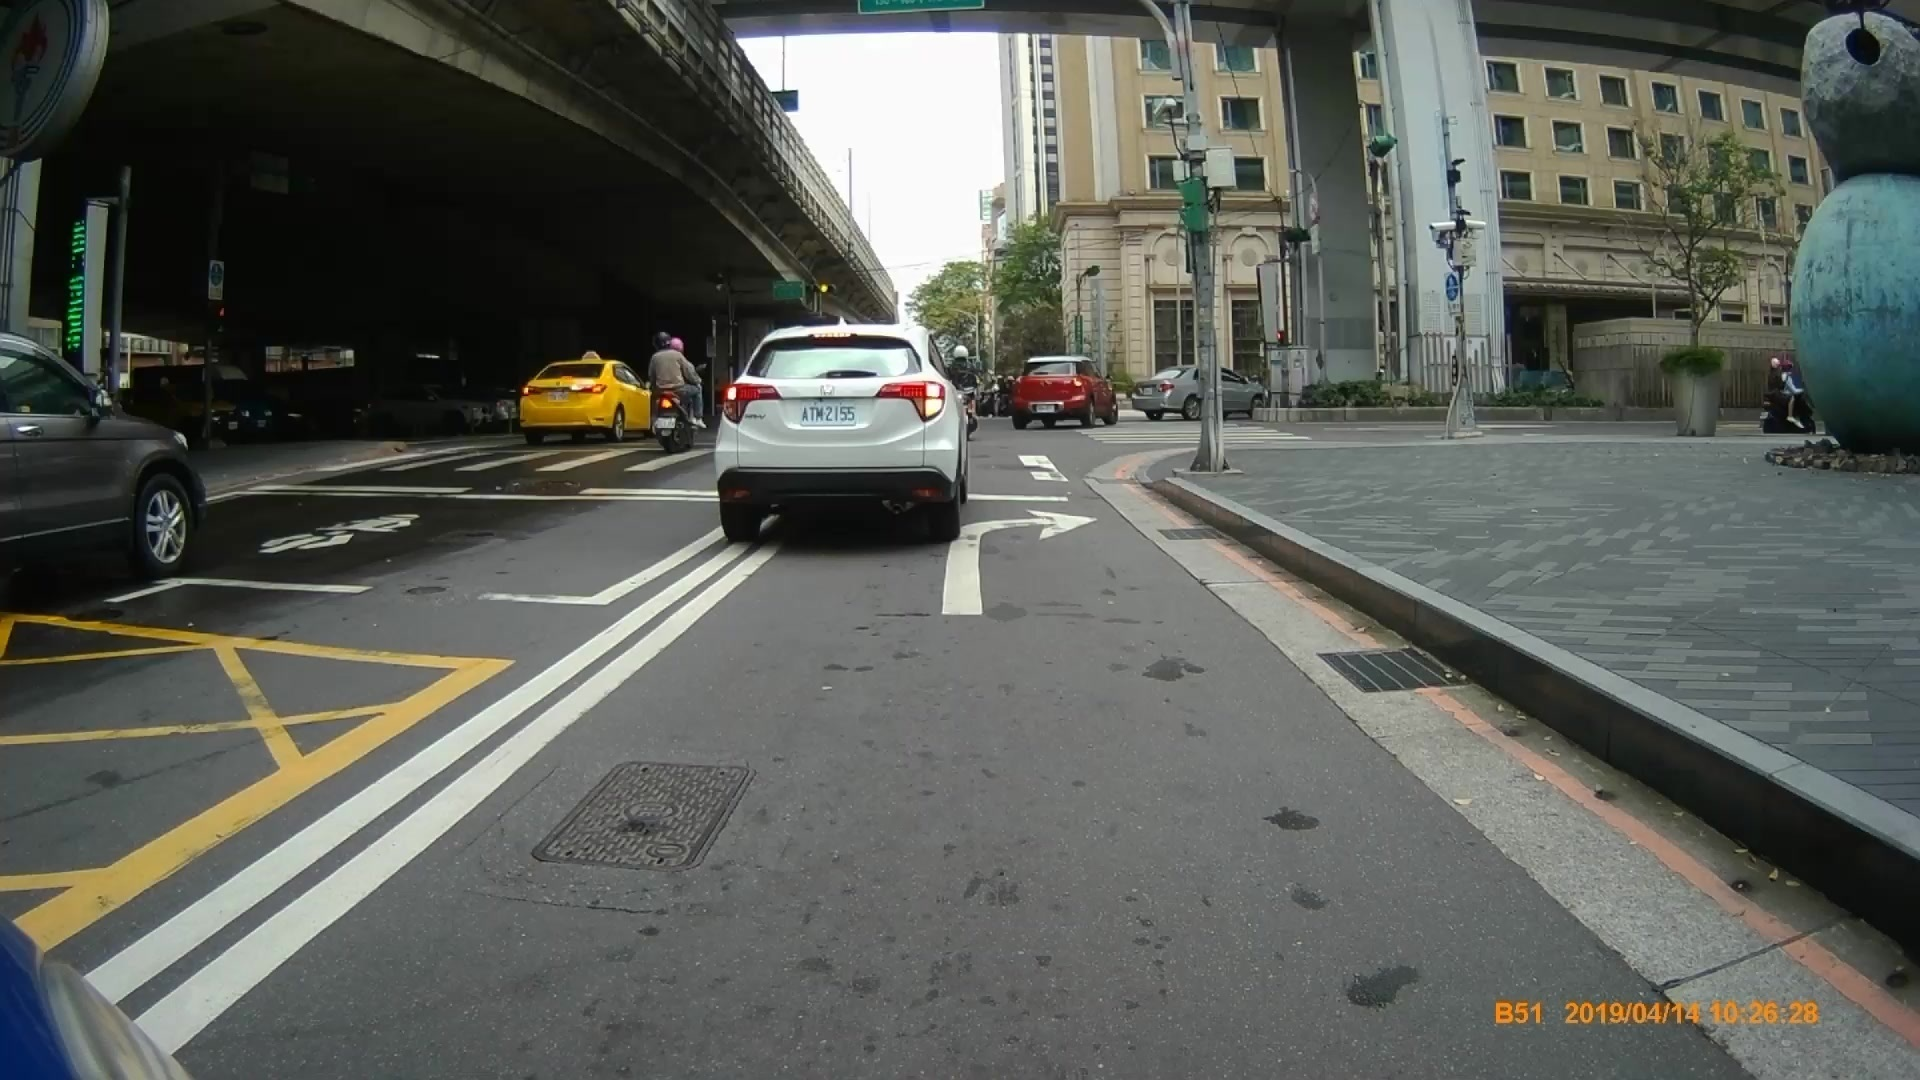License_plate: (799, 404, 862, 428)
